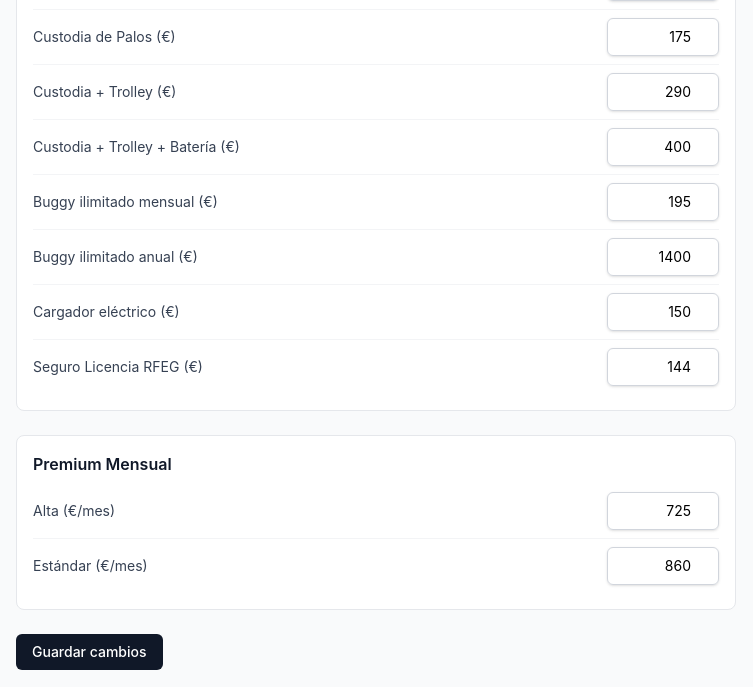
Test: TariffAdminScreen › tras guardar, muestra una confirmación
The width and height of the screenshot is (753, 687).
(page scrolled)
Click the button "Guardar cambios" at [89, 652], box left=16, top=634, right=162, bottom=670
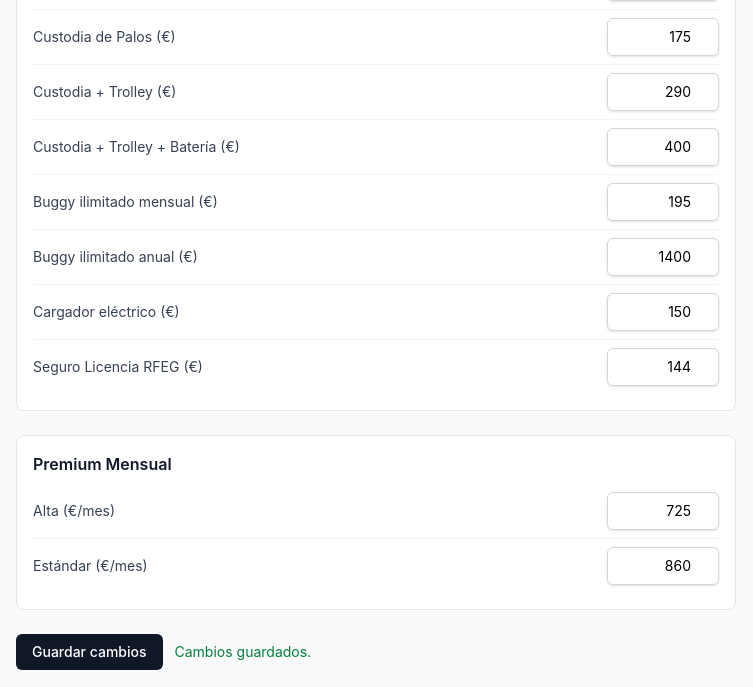
Expected: the message shows "Cambios guardados", left=174, top=643, right=311, bottom=660
